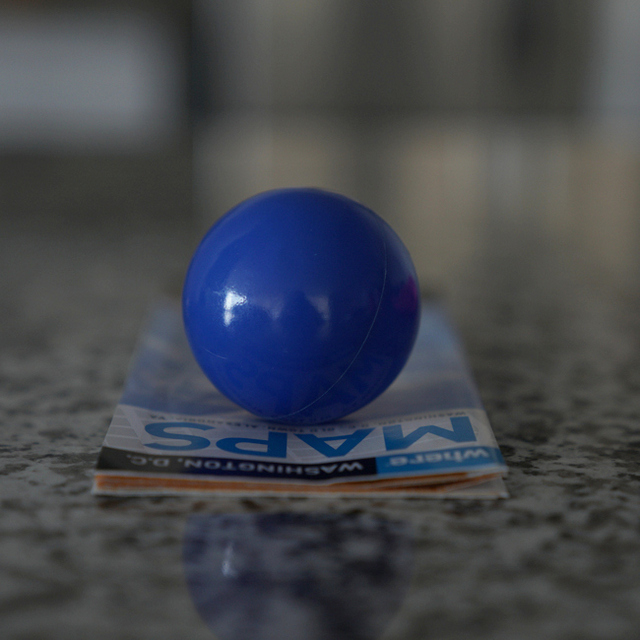Ball: (182, 191, 417, 423)
